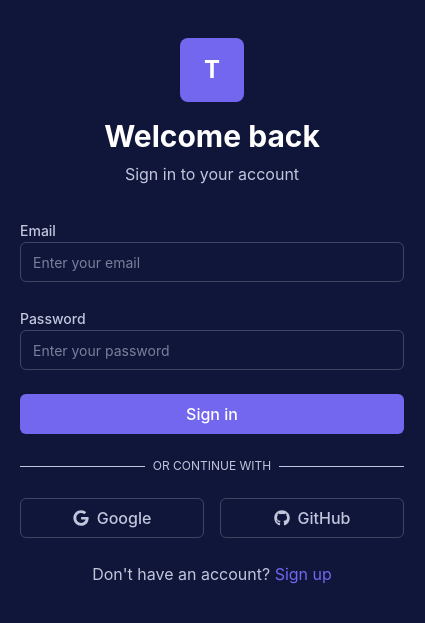
Test case: LoginPage › handles login failure
Type "test@example.com" into the field with placeholder "Enter your email" at (212, 262), box top-left (20, 242), bottom-right (404, 282)
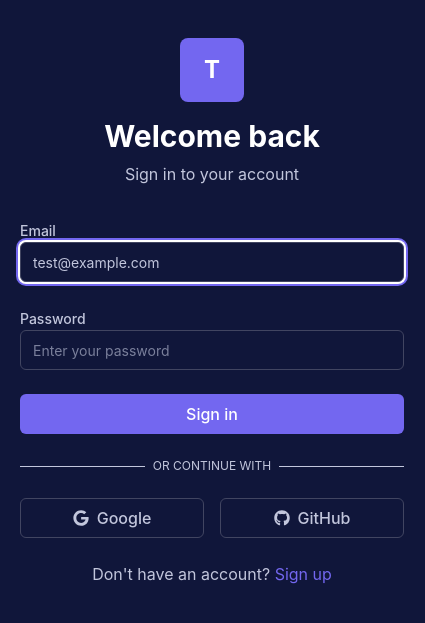
Type "wrongpass" into the password field with placeholder "Enter your password" at (212, 350), box top-left (20, 330), bottom-right (404, 370)
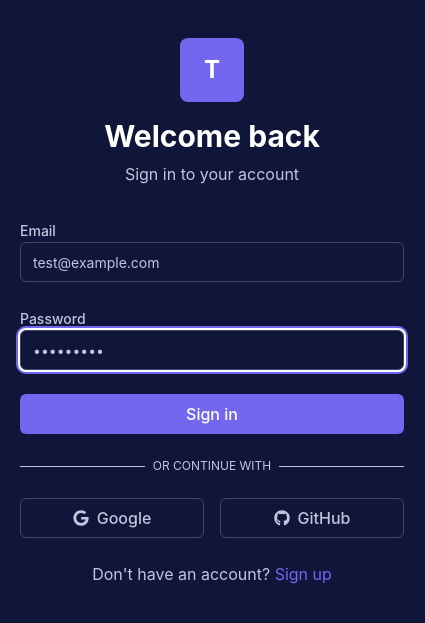
Click the button "Sign in" at (212, 414), box top-left (20, 394), bottom-right (404, 434)
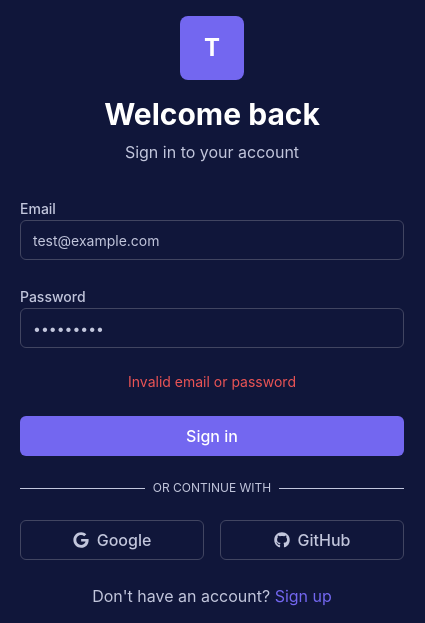
Expected: the text "Invalid email or password" is shown, top-left (128, 373), bottom-right (296, 390)
